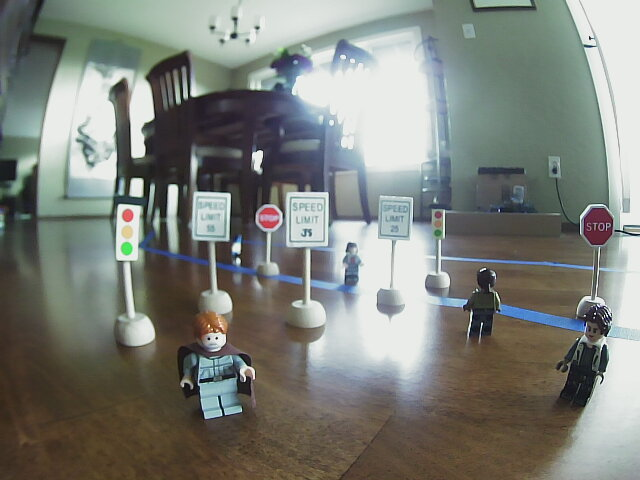SpeedLimit25: (379, 194, 410, 241)
SpeedLimit35: (288, 193, 327, 248)
SpeedLimit55: (192, 190, 228, 238)
StopSign: (578, 203, 615, 248), (251, 203, 284, 236)
TrafficLight: (114, 195, 139, 261), (430, 200, 445, 241)
person: (174, 306, 261, 422), (556, 300, 617, 409), (463, 266, 506, 338), (338, 238, 364, 291), (229, 232, 246, 272)
